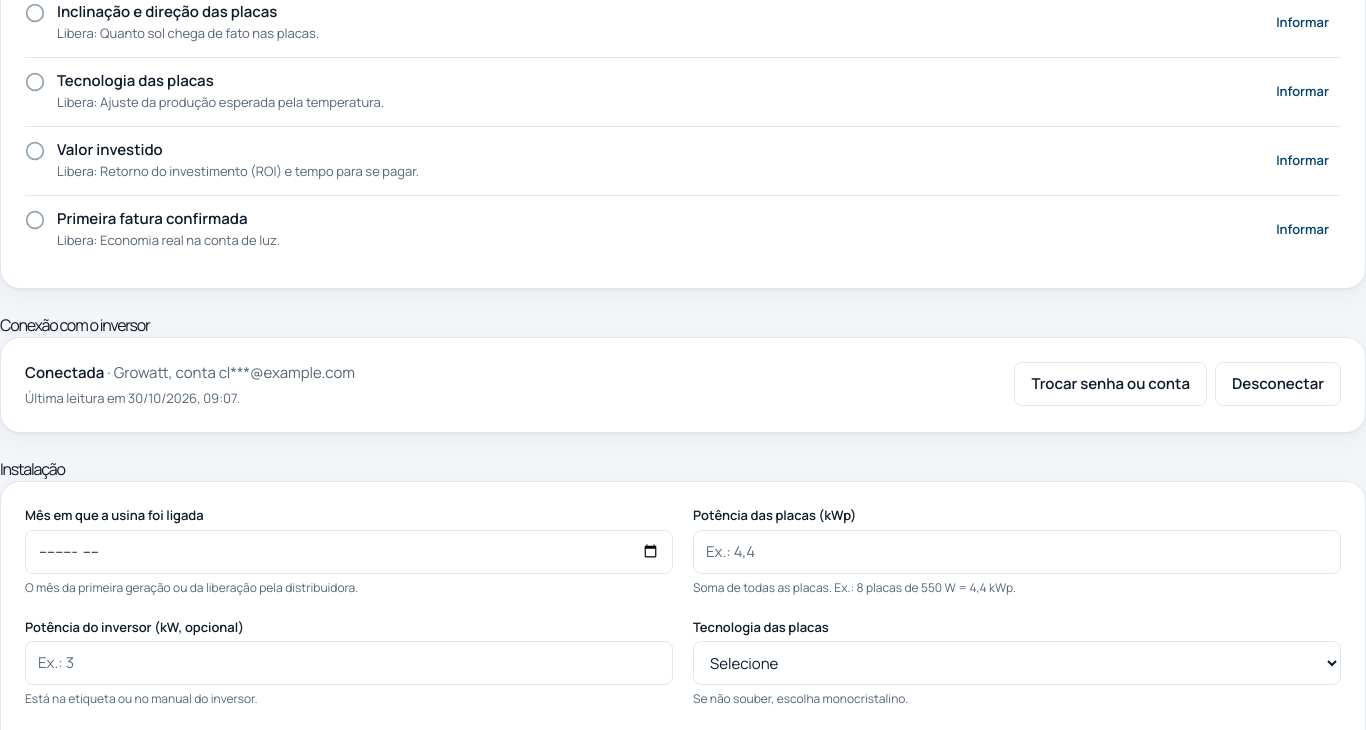
Test: PlantSetupPage — conexão com o inversor (ADR-091) › ao trocar uma conexão Growatt, a marca já vem marcada
The width and height of the screenshot is (1366, 730).
(page scrolled)
Click the button "Trocar senha ou conta": (1111, 384) [1014, 362, 1207, 406]
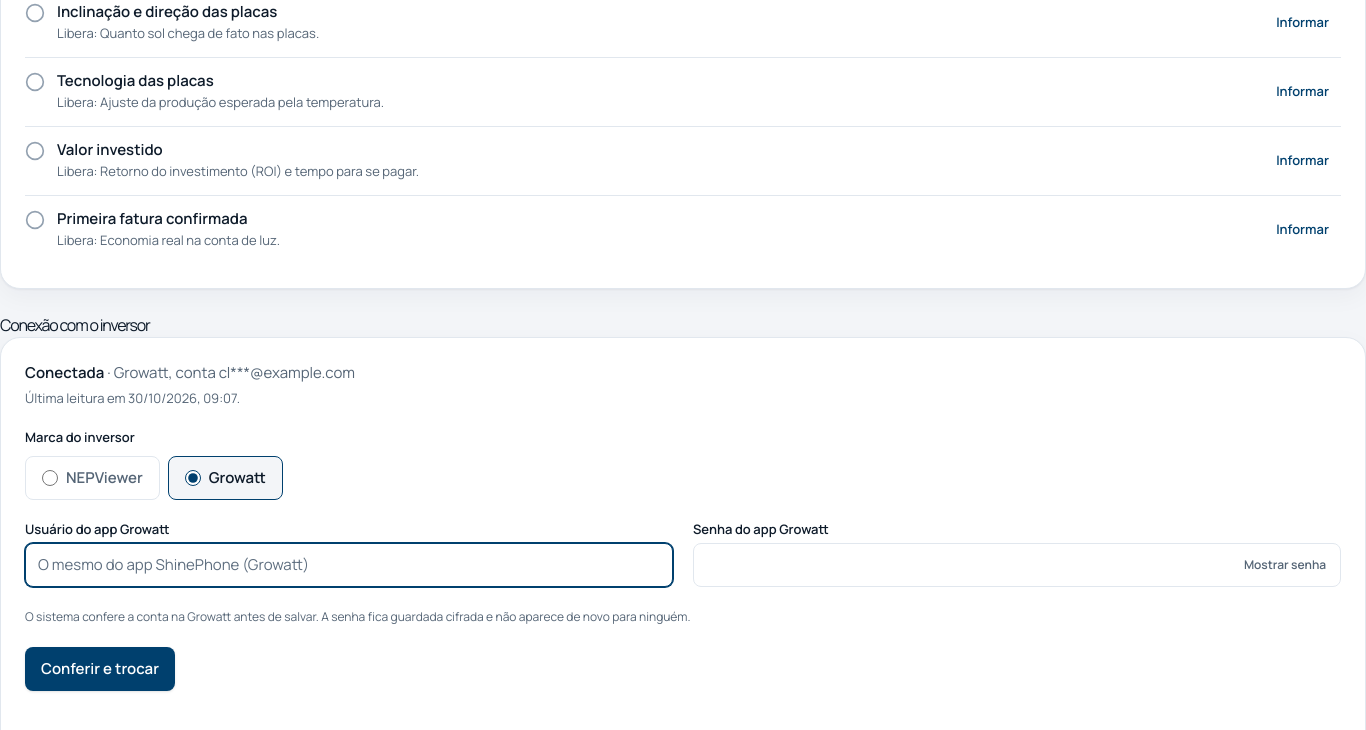
Check: the radio button labelled "Growatt" is checked, box [185, 470, 201, 486]
Check: the password field labelled "Senha do app Growatt" is empty, box [693, 543, 1341, 587]
